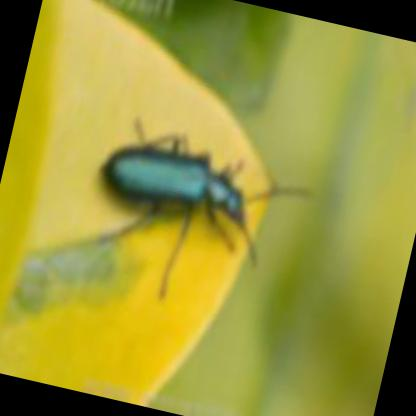blister beetle: (107, 151, 240, 226)
